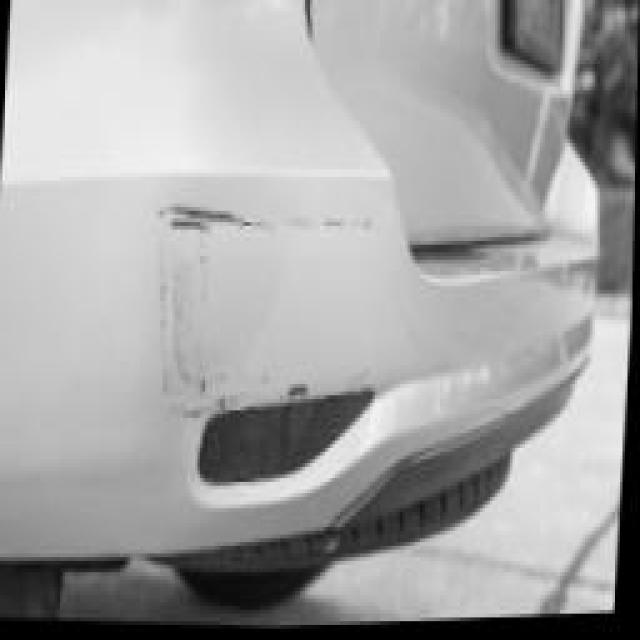Bumper: (0, 147, 459, 619)
